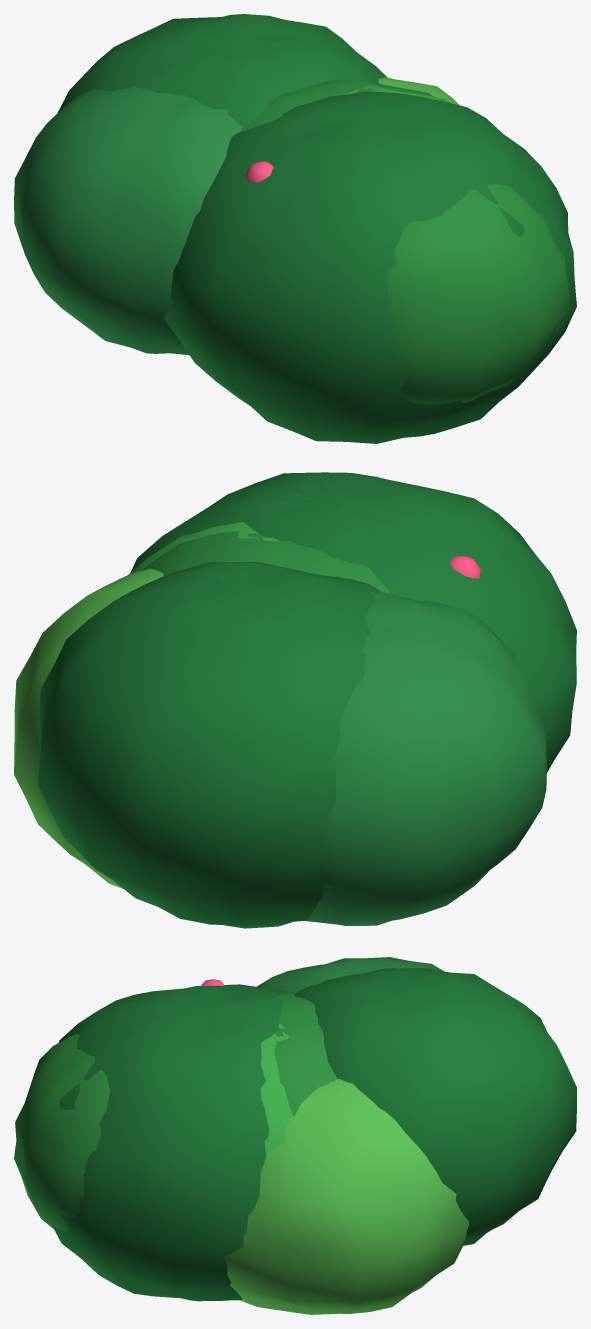
File: bush.glb
The picture shows the model from 3 angles, top to bottom: view 1: azimuth 30°, elevation 25°; view 2: azimuth 150°, elevation 25°; view 3: azimuth 270°, elevation 25°; orthographic projection. The views are drawn at different scales.
Parts seen in each view (by area): view 1: bush blob.002, bush blob.004, bush blob, bush blob.007, bush blob.005, bush blob.003; view 2: bush blob.007, bush blob.004, bush blob.002, bush blob.003, bush blob.005, bush blob.006; view 3: bush blob.002, bush blob.007, bush blob.003, bush blob, bush blob.005, bush blob.004, bush blob.006.
Part boxes in pixels (x1,y1,x2,y2): bush blob.002: (164, 91, 576, 443); bush blob.004: (14, 86, 242, 355); bush blob: (385, 183, 570, 404); bush blob.007: (57, 14, 386, 127); bush blob.005: (240, 79, 433, 131); bush blob.003: (378, 77, 459, 105); bush blob.007: (38, 562, 380, 928); bush blob.004: (303, 592, 546, 925); bush blob.002: (130, 472, 576, 772); bush blob.003: (14, 568, 163, 888); bush blob.005: (142, 531, 389, 593); bush blob.006: (128, 522, 278, 574); bush blob.002: (52, 984, 289, 1301); bush blob.007: (294, 968, 576, 1245); bush blob.003: (224, 1079, 469, 1314); bush blob: (14, 1034, 110, 1231); bush blob.005: (274, 994, 336, 1115); bush blob.004: (257, 957, 443, 994); bush blob.006: (260, 1024, 292, 1157).
Size of the model in its own units: 1.33 by 0.9049 by 1.61.
